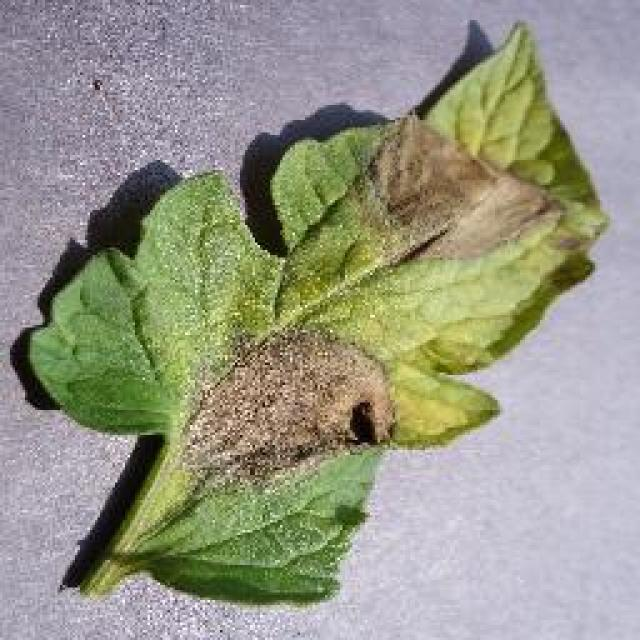Tomato___Late_blight: (10, 22, 612, 602)
